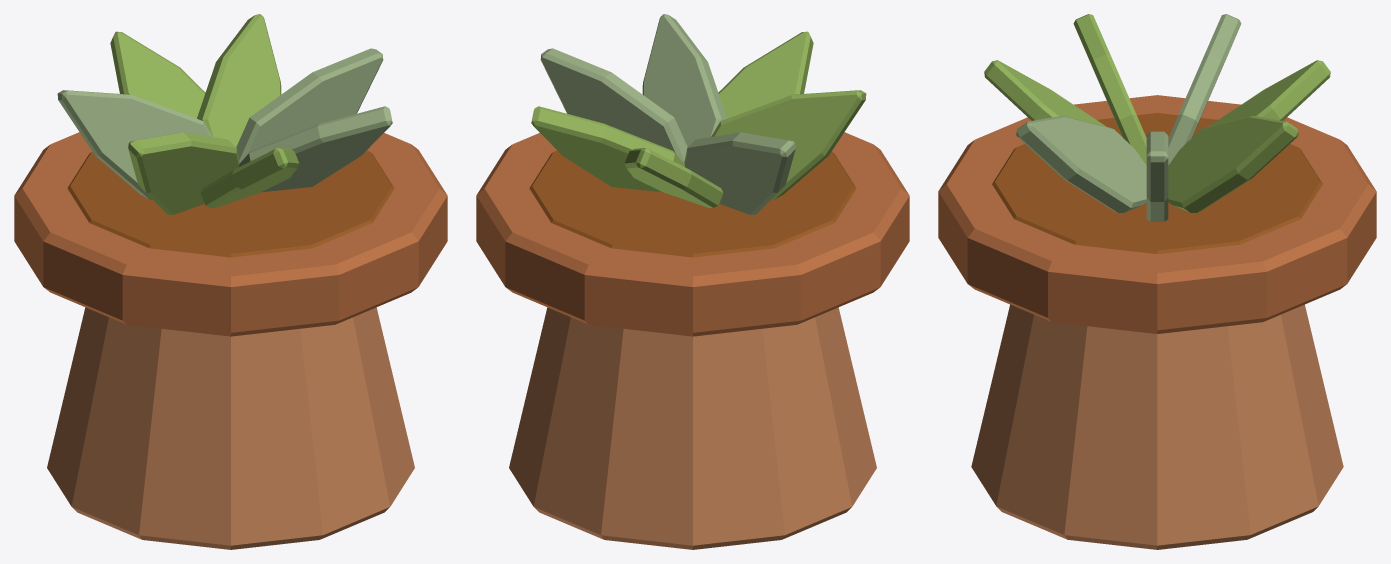
File: prop_pot.glb
3 views of the same model, side by side, from view 1: azimuth 30°, elevation 25°; view 2: azimuth 150°, elevation 25°; view 3: azimuth 270°, elevation 25° (orthographic).
Visible parts, largest first — view 1: pot_body, pot_lip, pot_soil, pot_leaf_0, pot_leaf_3, pot_leaf_1, pot_leaf_4, pot_leaf_6, pot_leaf_2, pot_leaf_5; view 2: pot_body, pot_lip, pot_soil, pot_leaf_0, pot_leaf_4, pot_leaf_6, pot_leaf_3, pot_leaf_1, pot_leaf_5, pot_leaf_2; view 3: pot_body, pot_lip, pot_soil, pot_leaf_1, pot_leaf_6, pot_leaf_3, pot_leaf_4, pot_leaf_2, pot_leaf_5, pot_leaf_0.
Boxes of the visible parts, bbox=[...] form: pot_body: bbox=[47, 307, 414, 549]; pot_lip: bbox=[14, 132, 447, 336]; pot_soil: bbox=[67, 150, 394, 257]; pot_leaf_0: bbox=[236, 48, 383, 162]; pot_leaf_3: bbox=[57, 90, 212, 199]; pot_leaf_1: bbox=[197, 14, 281, 146]; pot_leaf_4: bbox=[128, 132, 239, 214]; pot_leaf_6: bbox=[239, 106, 392, 192]; pot_leaf_2: bbox=[110, 31, 205, 118]; pot_leaf_5: bbox=[200, 148, 299, 207]; pot_body: bbox=[509, 307, 876, 549]; pot_lip: bbox=[476, 132, 909, 336]; pot_soil: bbox=[529, 150, 856, 257]; pot_leaf_0: bbox=[540, 48, 687, 162]; pot_leaf_4: bbox=[711, 90, 866, 199]; pot_leaf_6: bbox=[642, 14, 726, 146]; pot_leaf_3: bbox=[684, 132, 795, 214]; pot_leaf_1: bbox=[531, 106, 684, 192]; pot_leaf_5: bbox=[718, 31, 813, 118]; pot_leaf_2: bbox=[624, 148, 723, 207]; pot_body: bbox=[971, 304, 1343, 549]; pot_lip: bbox=[938, 95, 1376, 333]; pot_soil: bbox=[992, 113, 1322, 253]; pot_leaf_1: bbox=[1168, 115, 1298, 212]; pot_leaf_6: bbox=[1016, 115, 1146, 212]; pot_leaf_3: bbox=[1168, 14, 1241, 165]; pot_leaf_4: bbox=[1073, 14, 1146, 165]; pot_leaf_2: bbox=[1208, 60, 1330, 126]; pot_leaf_5: bbox=[984, 60, 1106, 126]; pot_leaf_0: bbox=[1146, 131, 1168, 221].
Bounding box in the file's own units: 0.49 × 0.49 × 0.49.
